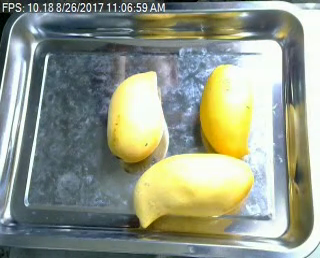Mango: (130, 151, 251, 233), (191, 59, 257, 161), (104, 66, 170, 162)
